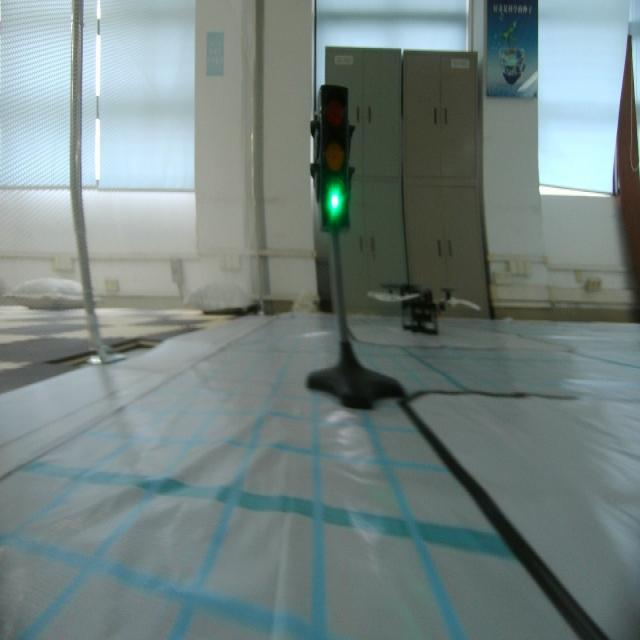green: (315, 83, 358, 230)
